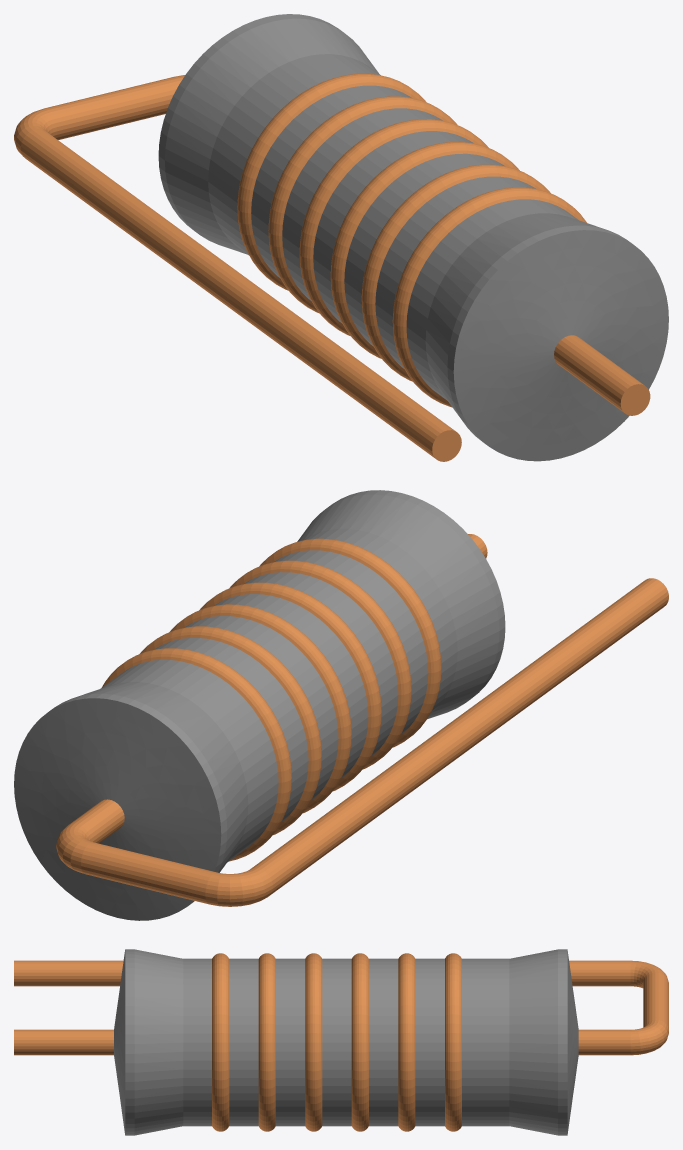
Rendered from L_Axial_L14.5mm_D5.8mm_P5.08mm_Vertical_Fastron_HBCC.glb.
3 renders of one model, top to bottom at view 1: azimuth 30°, elevation 25°; view 2: azimuth 150°, elevation 25°; view 3: azimuth 270°, elevation 25°, orthographic. The views are drawn at different scales.
Parts seen in each view (by area): view 1: Shape_IndexedFaceSet.002, Shape_IndexedFaceSet.025, Shape_IndexedFaceSet.018, Shape_IndexedFaceSet.017, Shape_IndexedFaceSet.004, Shape_IndexedFaceSet.005, Shape_IndexedFaceSet.015, Shape_IndexedFaceSet.007, Shape_IndexedFaceSet.009, Shape_IndexedFaceSet.011, Shape_IndexedFaceSet.013, Shape_IndexedFaceSet.006 (+12 smaller); view 2: Shape_IndexedFaceSet.020, Shape_IndexedFaceSet.025, Shape_IndexedFaceSet.004, Shape_IndexedFaceSet.017, Shape_IndexedFaceSet.018, Shape_IndexedFaceSet.009, Shape_IndexedFaceSet.007, Shape_IndexedFaceSet.011, Shape_IndexedFaceSet.015, Shape_IndexedFaceSet.013, Shape_IndexedFaceSet.005, Shape_IndexedFaceSet.016 (+11 smaller); view 3: Shape_IndexedFaceSet.004, Shape_IndexedFaceSet.018, Shape_IndexedFaceSet.017, Shape_IndexedFaceSet.009, Shape_IndexedFaceSet.007, Shape_IndexedFaceSet.011, Shape_IndexedFaceSet.015, Shape_IndexedFaceSet.013, Shape_IndexedFaceSet.005, Shape_IndexedFaceSet.025, Shape_IndexedFaceSet.006, Shape_IndexedFaceSet.012 (+13 smaller).
Boxes of the visible parts, x1=… form: Shape_IndexedFaceSet.002: x1=453, y1=230, x2=668, y2=461; Shape_IndexedFaceSet.025: x1=21, y1=129, x2=455, y2=459; Shape_IndexedFaceSet.018: x1=165, y1=18, x2=378, y2=254; Shape_IndexedFaceSet.017: x1=208, y1=54, x2=380, y2=255; Shape_IndexedFaceSet.004: x1=425, y1=213, x2=604, y2=419; Shape_IndexedFaceSet.005: x1=406, y1=199, x2=578, y2=400; Shape_IndexedFaceSet.015: x1=251, y1=85, x2=411, y2=277; Shape_IndexedFaceSet.007: x1=375, y1=176, x2=535, y2=368; Shape_IndexedFaceSet.009: x1=344, y1=153, x2=504, y2=346; Shape_IndexedFaceSet.011: x1=313, y1=131, x2=473, y2=323; Shape_IndexedFaceSet.013: x1=282, y1=108, x2=442, y2=300; Shape_IndexedFaceSet.006: x1=392, y1=187, x2=586, y2=407; Shape_IndexedFaceSet.020: x1=14, y1=698, x2=221, y2=920; Shape_IndexedFaceSet.025: x1=251, y1=578, x2=668, y2=895; Shape_IndexedFaceSet.004: x1=297, y1=494, x2=499, y2=719; Shape_IndexedFaceSet.017: x1=100, y1=659, x2=278, y2=862; Shape_IndexedFaceSet.018: x1=76, y1=682, x2=248, y2=872; Shape_IndexedFaceSet.009: x1=243, y1=572, x2=398, y2=757; Shape_IndexedFaceSet.007: x1=273, y1=550, x2=428, y2=735; Shape_IndexedFaceSet.011: x1=214, y1=594, x2=368, y2=779; Shape_IndexedFaceSet.015: x1=154, y1=638, x2=308, y2=823; Shape_IndexedFaceSet.013: x1=184, y1=616, x2=338, y2=801; Shape_IndexedFaceSet.005: x1=303, y1=528, x2=457, y2=713; Shape_IndexedFaceSet.016: x1=102, y1=648, x2=291, y2=861; Shape_IndexedFaceSet.004: x1=134, y1=949, x2=183, y2=1135; Shape_IndexedFaceSet.018: x1=509, y1=949, x2=557, y2=1135; Shape_IndexedFaceSet.017: x1=462, y1=958, x2=509, y2=1126; Shape_IndexedFaceSet.009: x1=275, y1=958, x2=305, y2=1126; Shape_IndexedFaceSet.007: x1=229, y1=958, x2=258, y2=1126; Shape_IndexedFaceSet.011: x1=322, y1=958, x2=351, y2=1126; Shape_IndexedFaceSet.015: x1=415, y1=958, x2=444, y2=1126; Shape_IndexedFaceSet.013: x1=369, y1=958, x2=398, y2=1126; Shape_IndexedFaceSet.005: x1=183, y1=958, x2=211, y2=1126; Shape_IndexedFaceSet.025: x1=14, y1=960, x2=630, y2=986; Shape_IndexedFaceSet.006: x1=212, y1=953, x2=229, y2=1131; Shape_IndexedFaceSet.012: x1=351, y1=953, x2=368, y2=1131.
Bounding box in the file's own units: 3.3 × 2.28 × 8.03.
